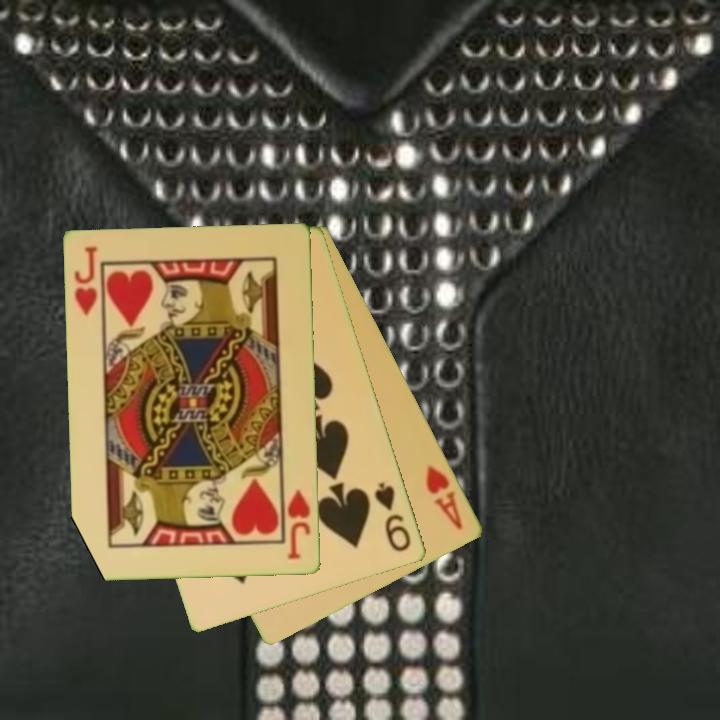9s: (371, 479, 415, 555)
Ah: (422, 462, 467, 533)
Jh: (280, 481, 314, 563), (71, 243, 101, 319)
